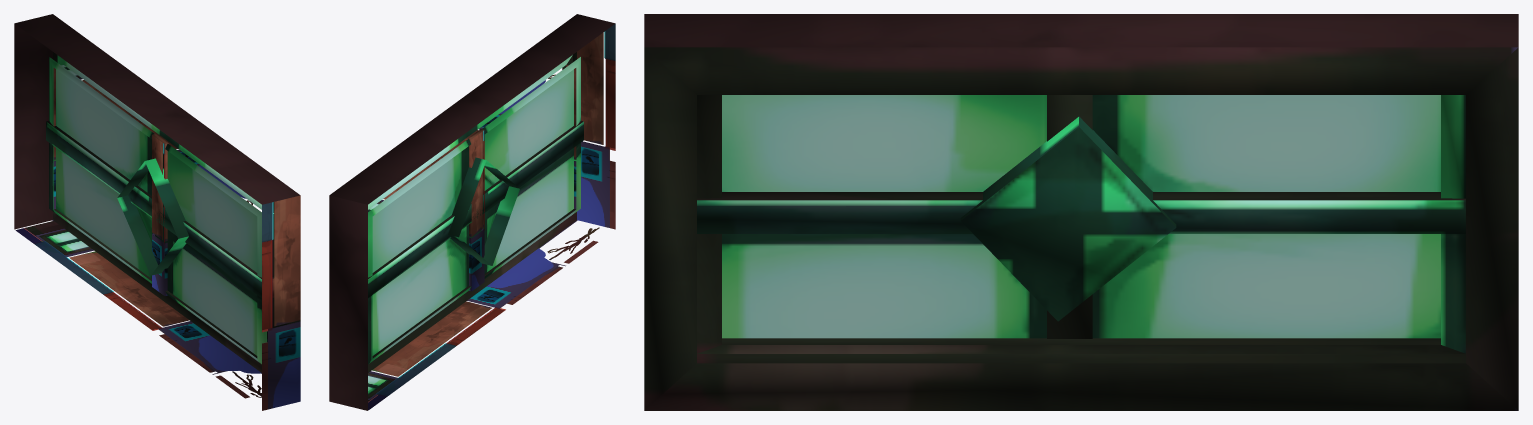
File: JanelaPequena2.fbx
3 views of the same model, side by side, from view 1: azimuth 30°, elevation 25°; view 2: azimuth 150°, elevation 25°; view 3: azimuth 270°, elevation 25° (orthographic). The views are drawn at different scales.
Visible parts, largest first — view 1: JanelaPequena2; view 2: JanelaPequena2; view 3: JanelaPequena2.
Part boxes in pixels (x1,y1,x2,y2): JanelaPequena2: [14, 14, 300, 410]; JanelaPequena2: [329, 14, 615, 410]; JanelaPequena2: [644, 14, 1518, 410].
Size of the model in its own units: 7.86 by 87.44 by 40.13.
